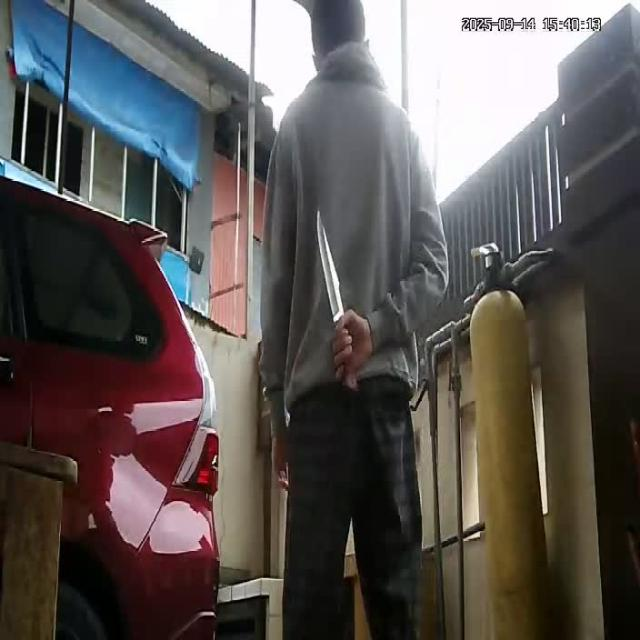senjata_tajam: (313, 204, 347, 329)
